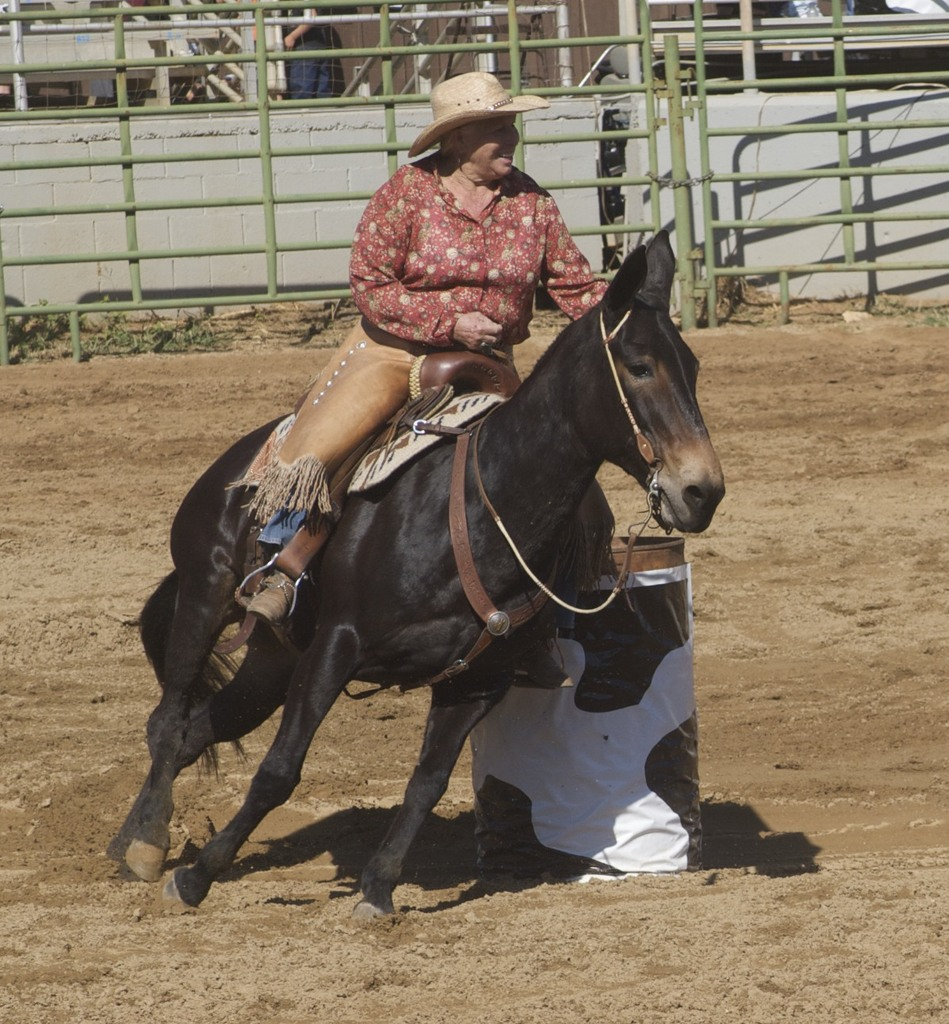horse: (108, 229, 725, 924)
